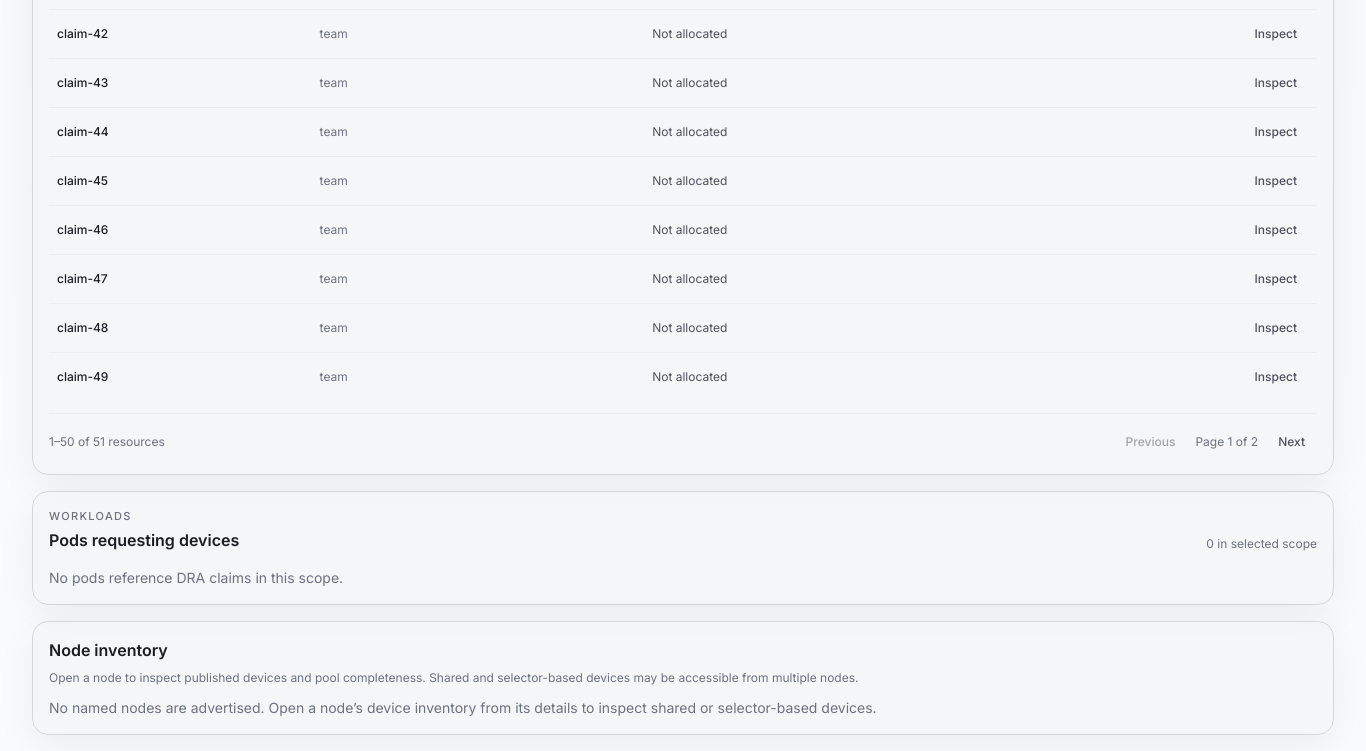
Test: DeviceResourcesView › clamps the page after a smaller snapshot refresh
(page scrolled)
Click the button with aria-label "Next resources page" at point(1292, 442), box [1266, 426, 1317, 458]
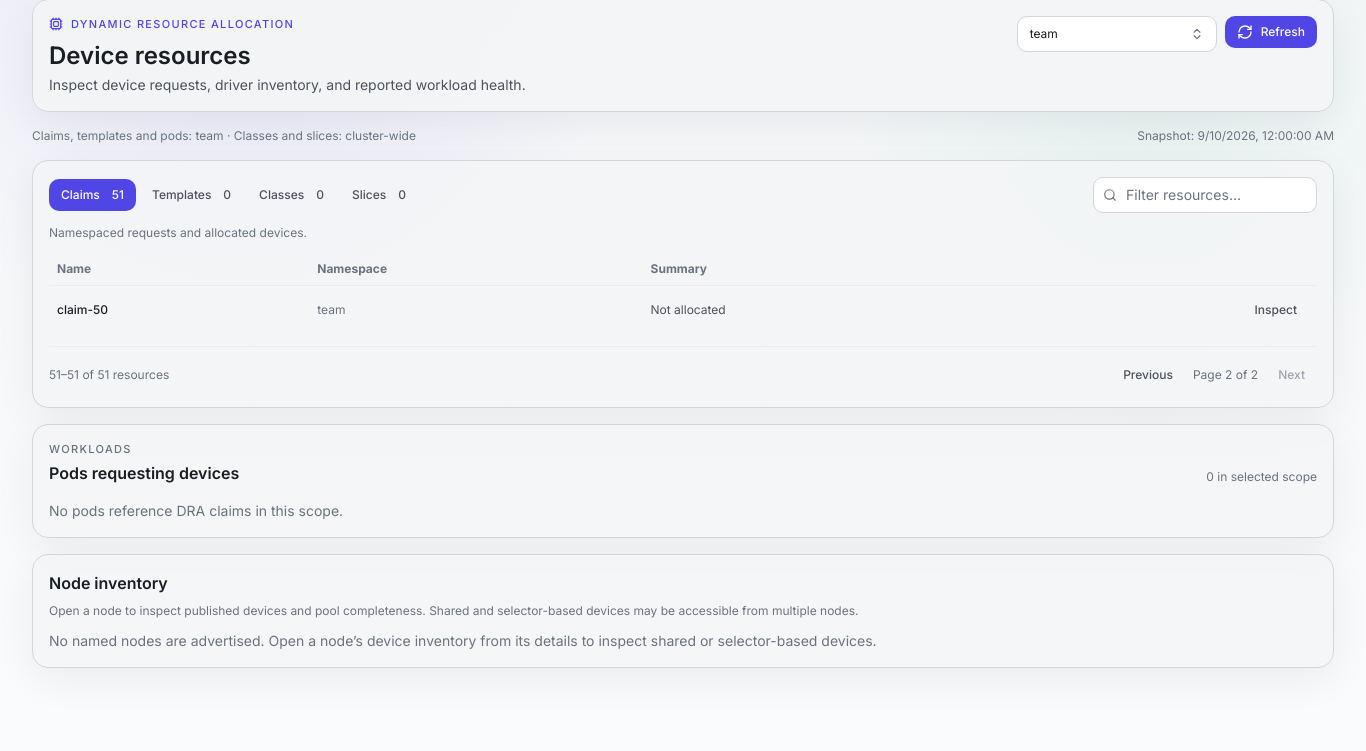
Expected: the text "claim-50" is shown, [49, 285, 309, 334]
Click the button "Refresh" at point(1271, 32), box [1225, 16, 1317, 48]
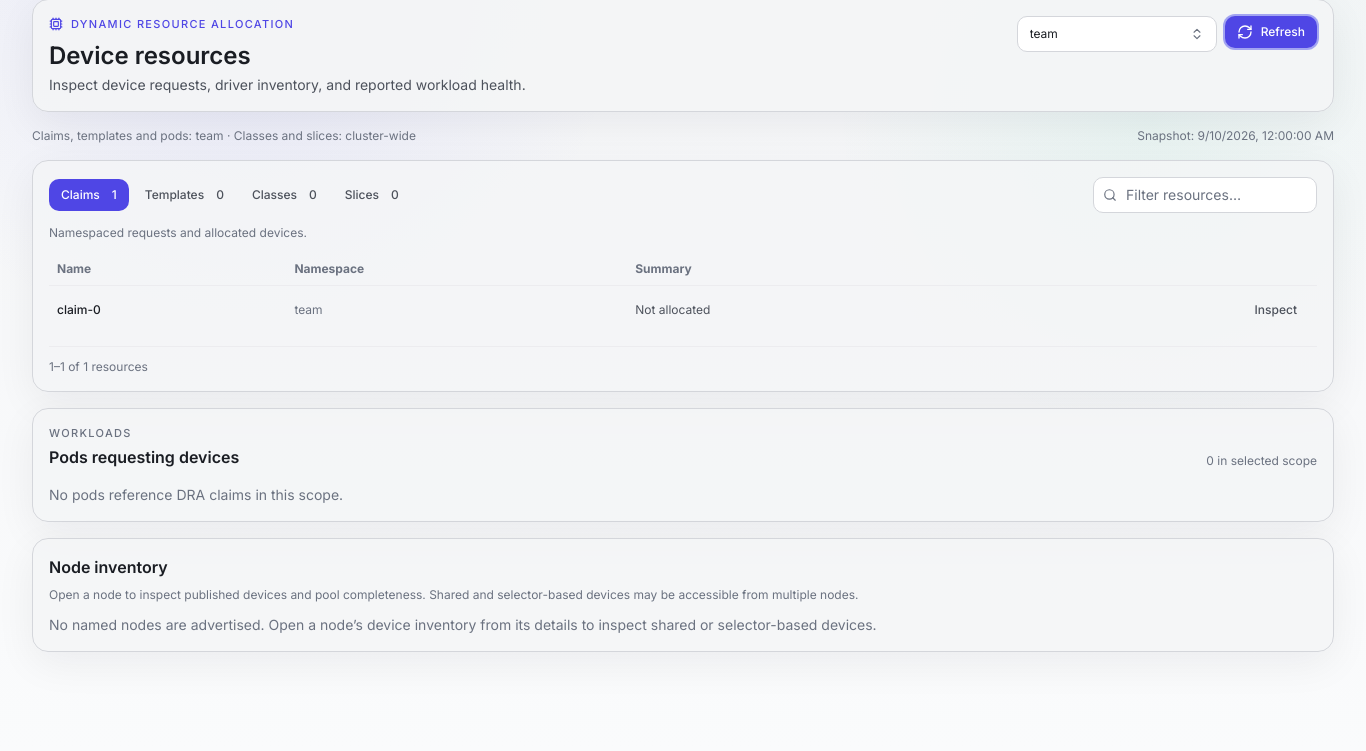
Expected: the text "1–1 of 1 resources" is shown, [49, 358, 148, 374]
Expected: the text "claim-0" is shown, [49, 285, 286, 334]
